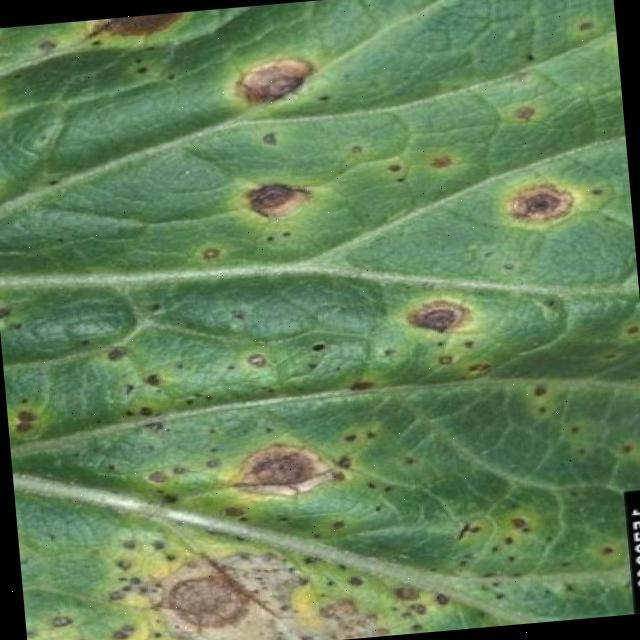Bacterial: (87, 27, 622, 640)
